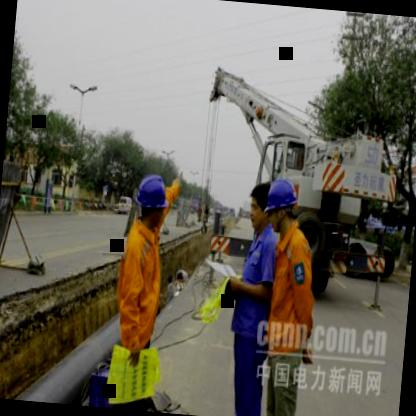head: (247, 181, 277, 236)
helmet: (264, 174, 300, 233), (134, 171, 170, 227)
